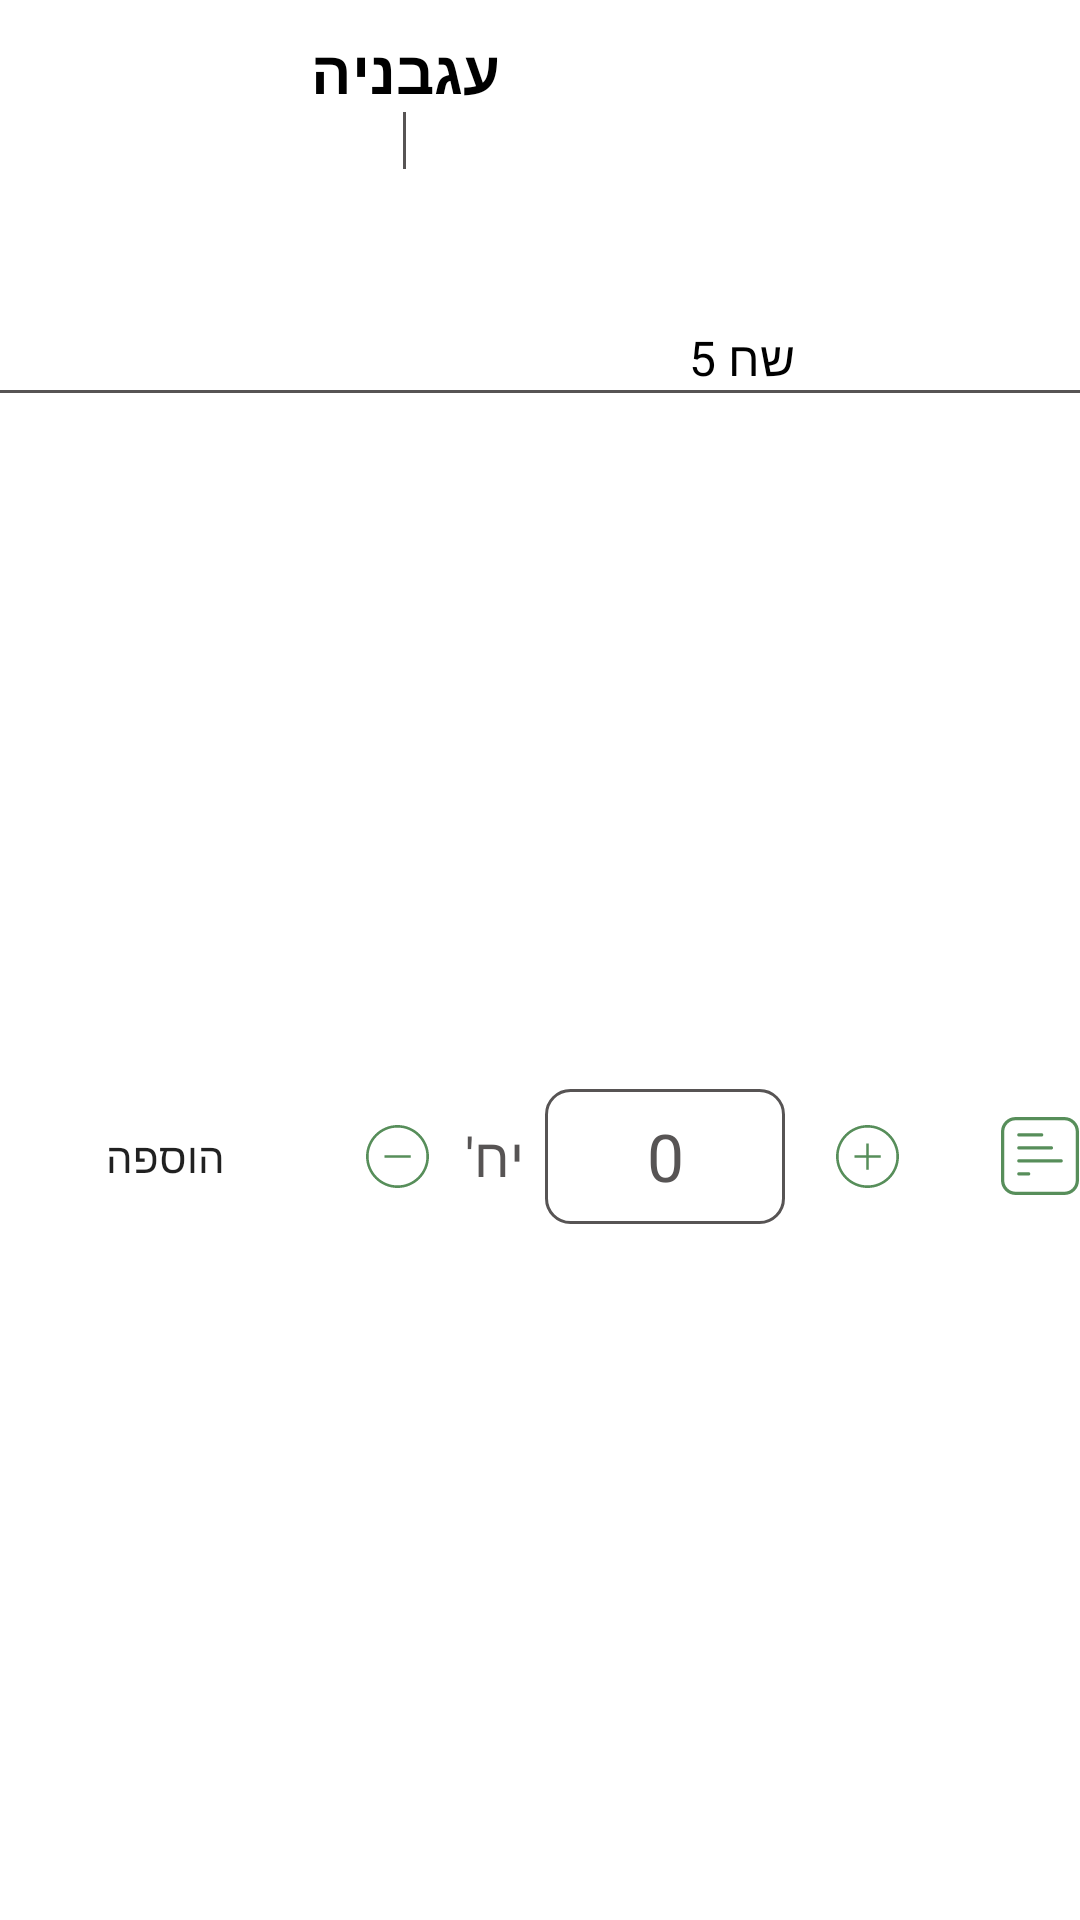

Point at icon controls on the screen. Image size 1080×1920, points as [x,y].
add: [867,1156]
remove: [397,1156]
